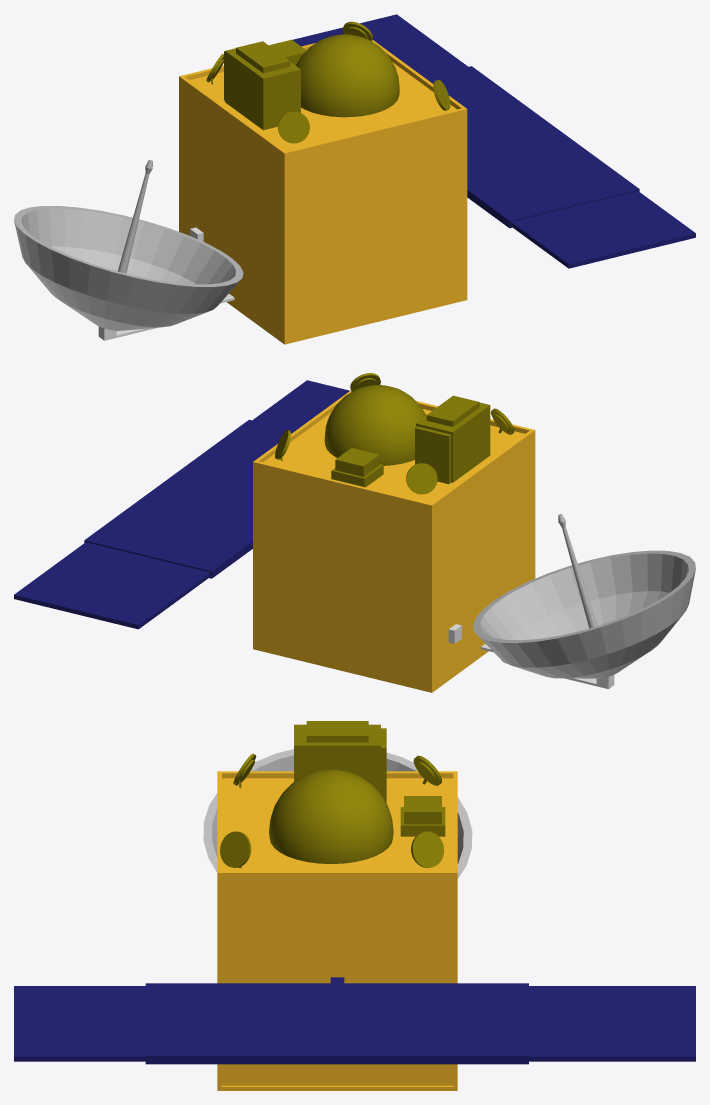
The model's file is Insat-3d.glb.
The picture shows the model from 3 angles, top to bottom: view 1: azimuth 30°, elevation 25°; view 2: azimuth 150°, elevation 25°; view 3: azimuth 270°, elevation 25°; orthographic projection. The views are drawn at different scales.
Visible parts, largest first — view 1: Cube, Cube.003, Circle.004, Sphere, Cube.001, Circle.003, Cube.004; view 2: Cube, Cube.003, Circle.004, Sphere, Cube.001, Cube.002, Circle.002, Cube.004; view 3: Cube.003, Cube, Sphere, Cube.001, Circle.004, Cube.002, Circle.001, Circle.
Boxes of the visible parts, left/top/right/bottom form: Cube: left=179, top=40, right=467, bottom=344; Cube.003: left=292, top=14, right=695, bottom=268; Circle.004: left=14, top=160, right=243, bottom=330; Sphere: left=296, top=34, right=399, bottom=117; Cube.001: left=224, top=41, right=300, bottom=130; Circle.003: left=278, top=111, right=309, bottom=143; Cube.004: left=98, top=227, right=234, bottom=340; Cube: left=253, top=390, right=535, bottom=692; Cube.003: left=14, top=380, right=349, bottom=629; Circle.004: left=473, top=514, right=695, bottom=678; Sphere: left=324, top=385, right=426, bottom=465; Cube.001: left=415, top=395, right=490, bottom=484; Cube.002: left=331, top=447, right=383, bottom=487; Circle.002: left=406, top=463, right=437, bottom=494; Cube.004: left=448, top=624, right=614, bottom=688; Cube.003: left=14, top=977, right=695, bottom=1064; Cube: left=217, top=771, right=457, bottom=1090; Sphere: left=269, top=769, right=393, bottom=863; Cube.001: left=294, top=721, right=386, bottom=802; Circle.004: left=203, top=749, right=472, bottom=878; Cube.002: left=400, top=796, right=445, bottom=836; Circle.001: left=411, top=831, right=443, bottom=867; Circle: left=220, top=831, right=251, bottom=867.
Size of the model in its own units: 5.74 by 2.56 by 5.67.
